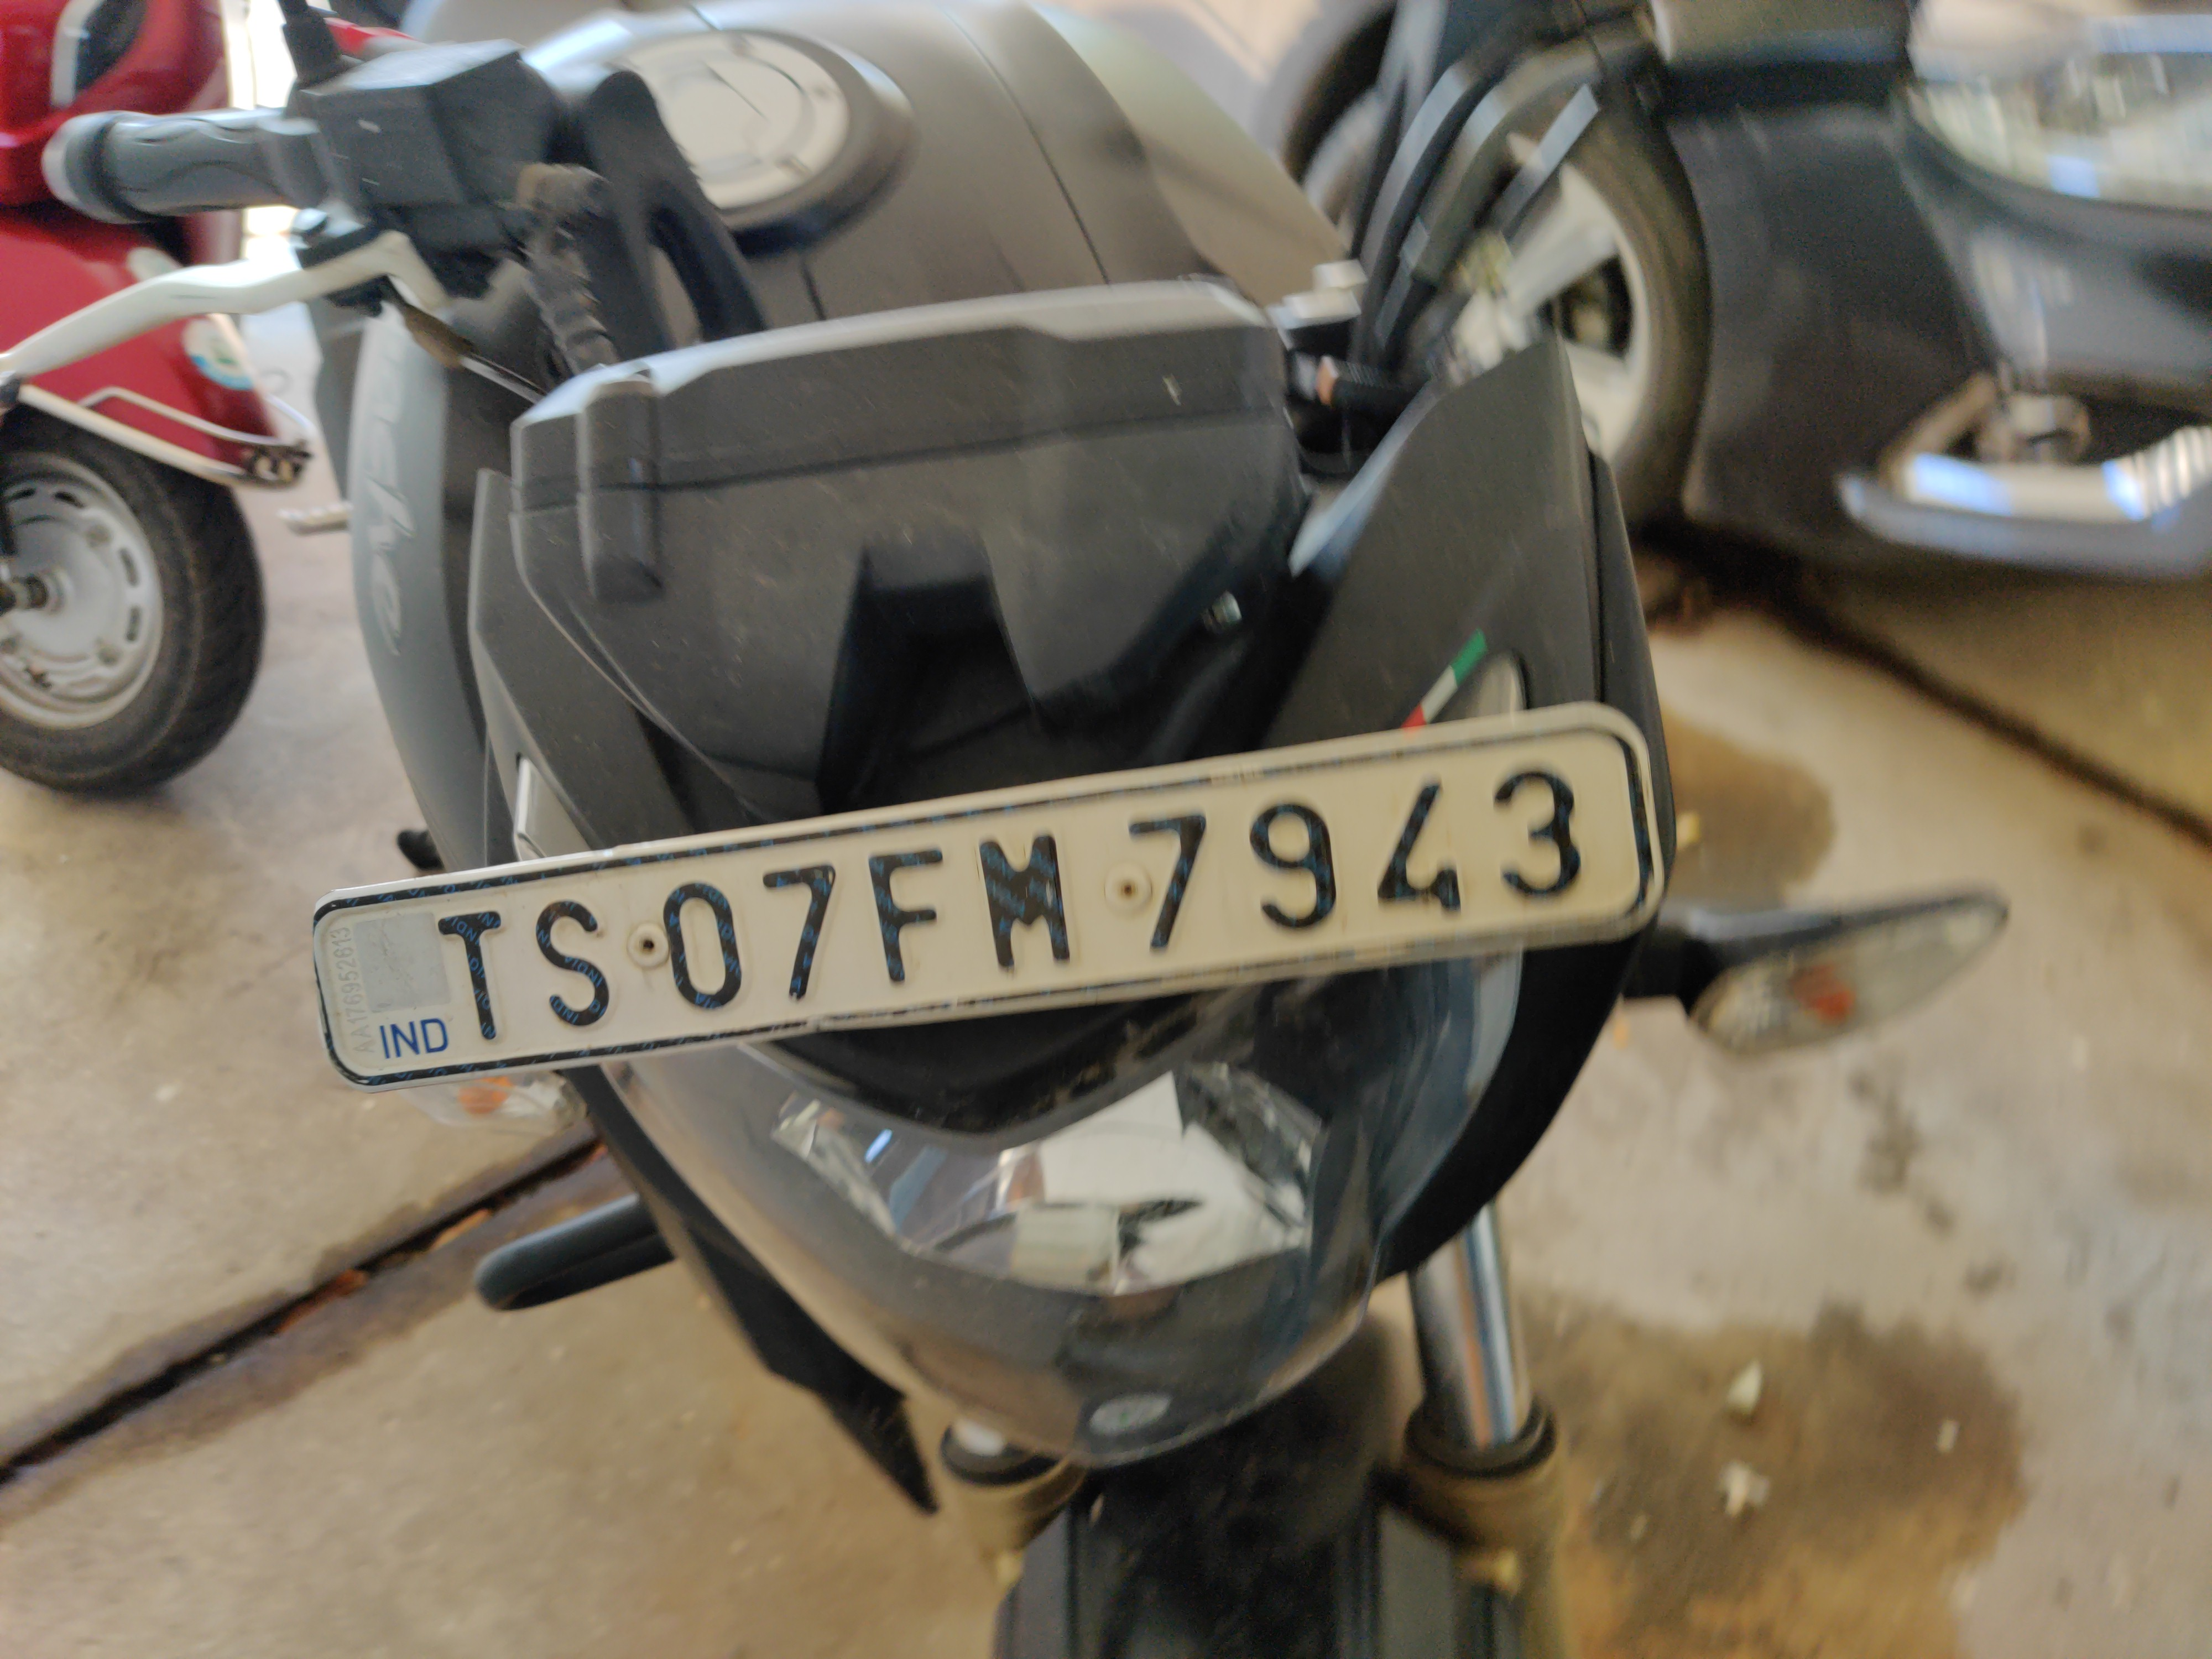plate: (276, 688, 1774, 1186)
